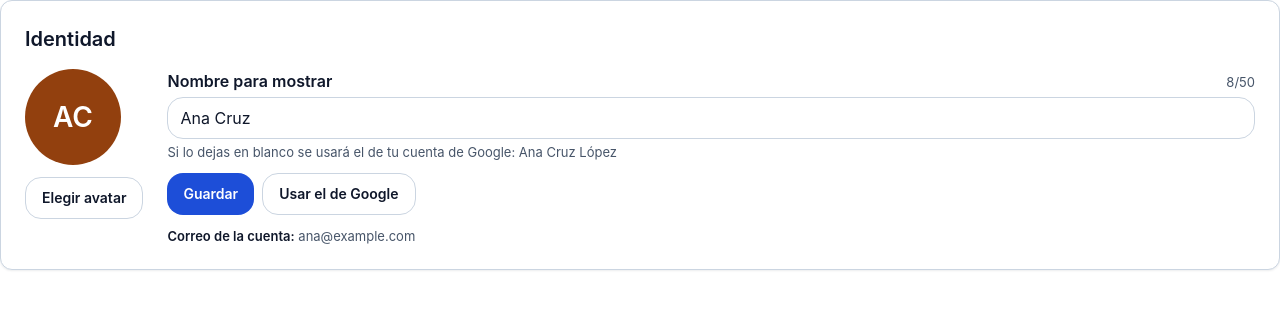
<IdentitySection> › el error se asocia al campo y se quita al corregir el nombre
Clear the field labelled "Nombre para mostrar" at {"x": 711, "y": 118}, box [168,97,1255,139]
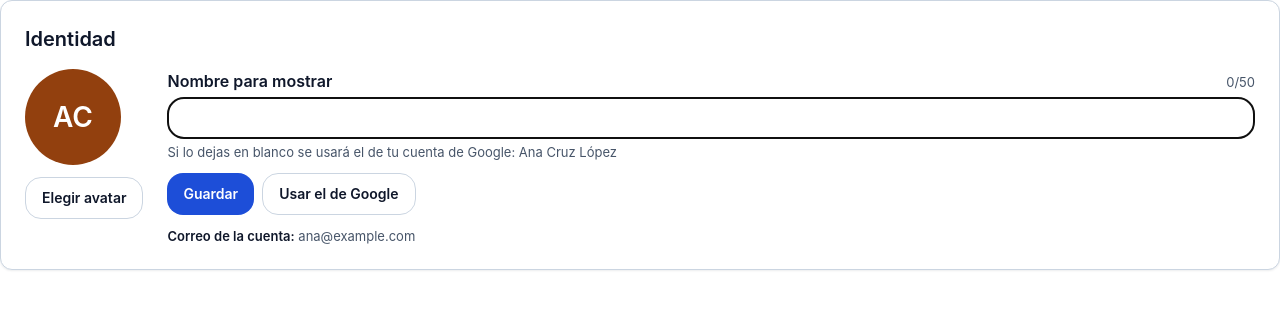
Click the button "Guardar".
click(211, 194)  # box [168,173,254,215]
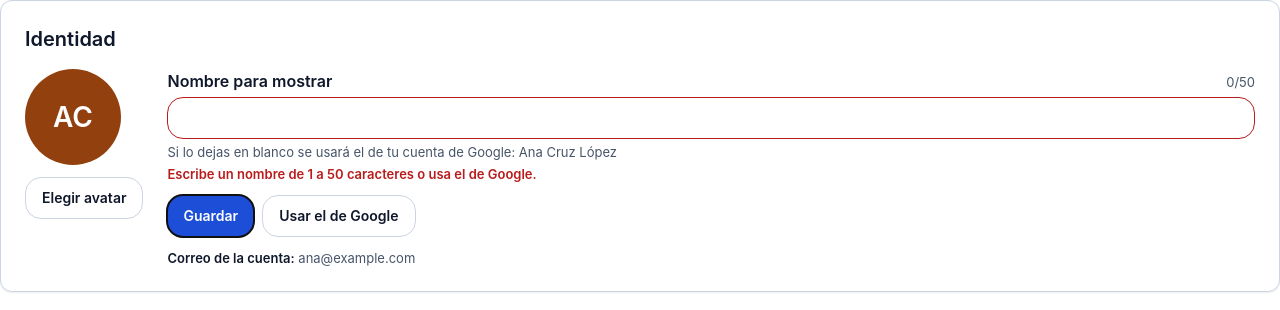
Expected: the field labelled "Nombre para mostrar" is marked as invalid
Type "Eva" into the field labelled "Nombre para mostrar".
click(711, 118); type("Eva")  # box [168,97,1255,139]
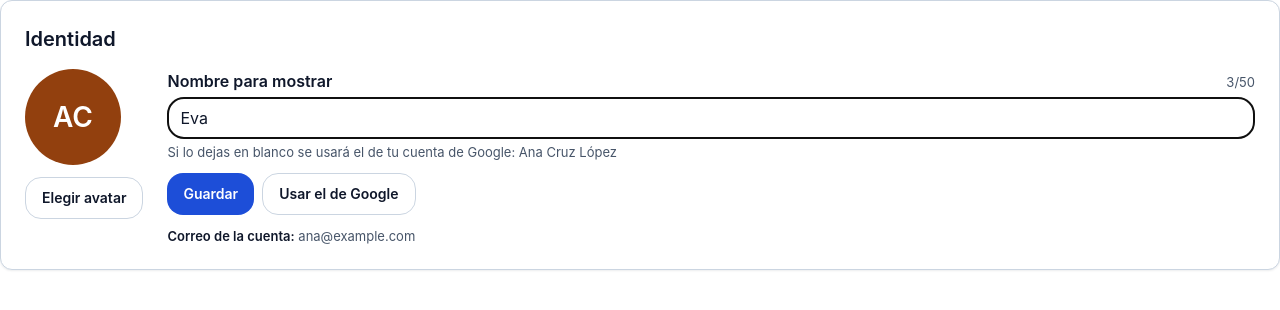
Expected: the message "Escribe un nombre de 1 a 50 caracteres o usa el de Google." is gone
